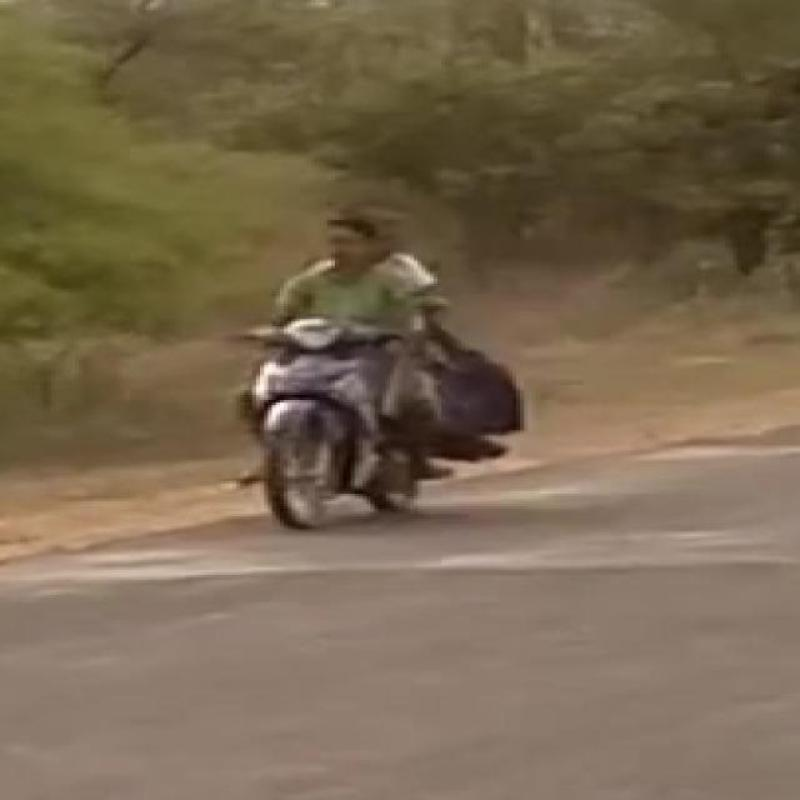nohelmet: (304, 191, 511, 300)
